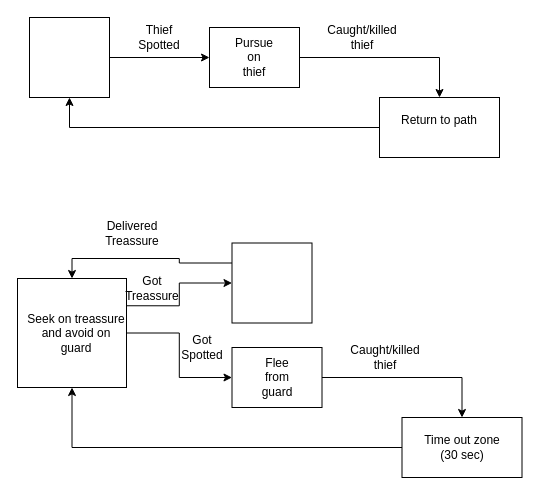
Some shapes in this 540 by 495 pixel diagram are drawn without their labels. The shapes that lost their labels are listed below. From the top down, each one's centre as x and y in pixels, then its label:
pixel 69 57: Path Following
pixel 271 282: Bring to treassure storage
